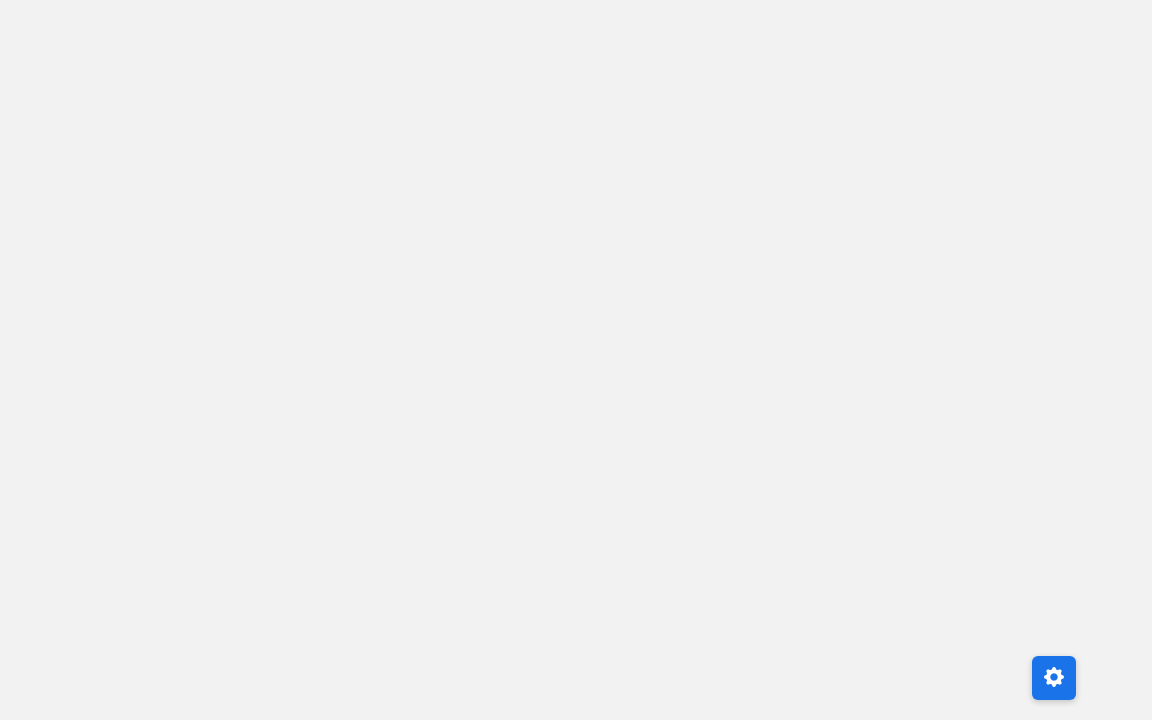
Test case: Settings › shows the account sections when signed in
The image size is (1152, 720).
Click the button named "Settings" at (1054, 678), box 1032,656 -> 1076,700
(page scrolled)
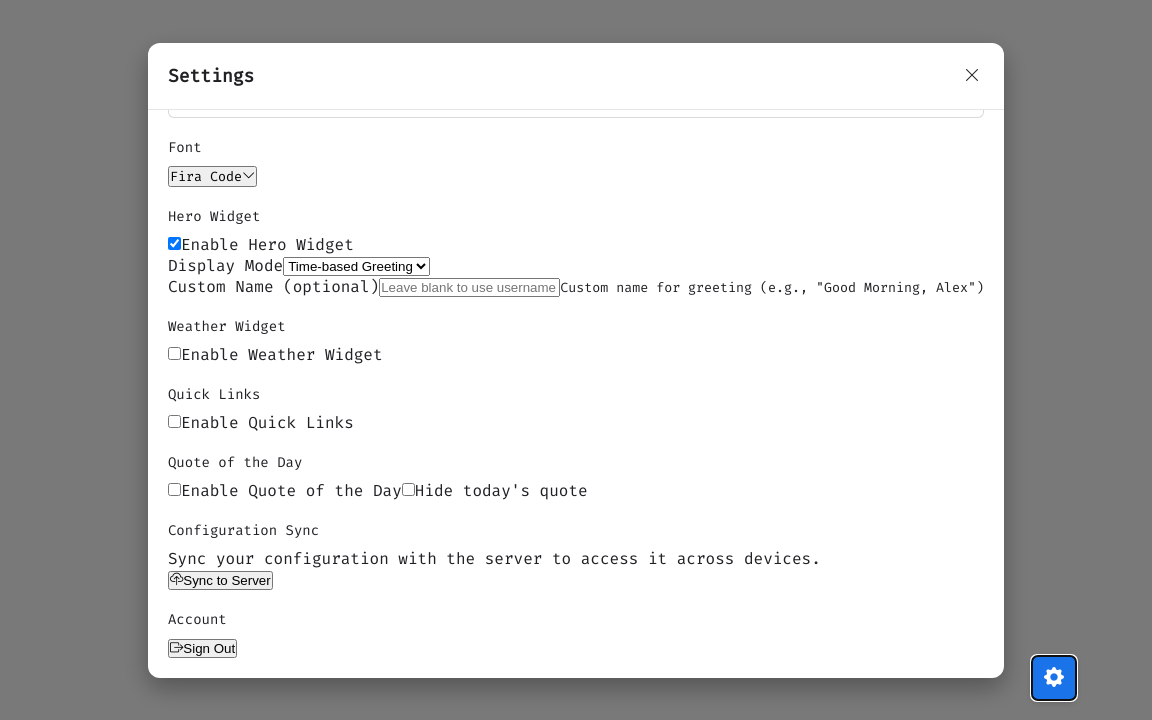
Expected: the text "Quote of the Day" is shown, 168,452 -> 302,472
Expected: the text "Configuration Sync" is shown, 168,520 -> 319,540
Expected: the text "Account" is shown, 168,610 -> 227,628
